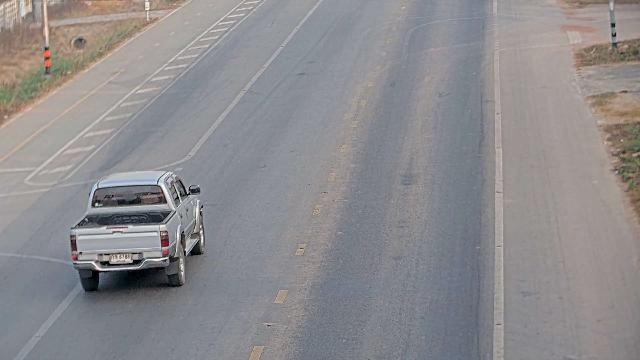pickup-truck: (68, 169, 205, 292)
